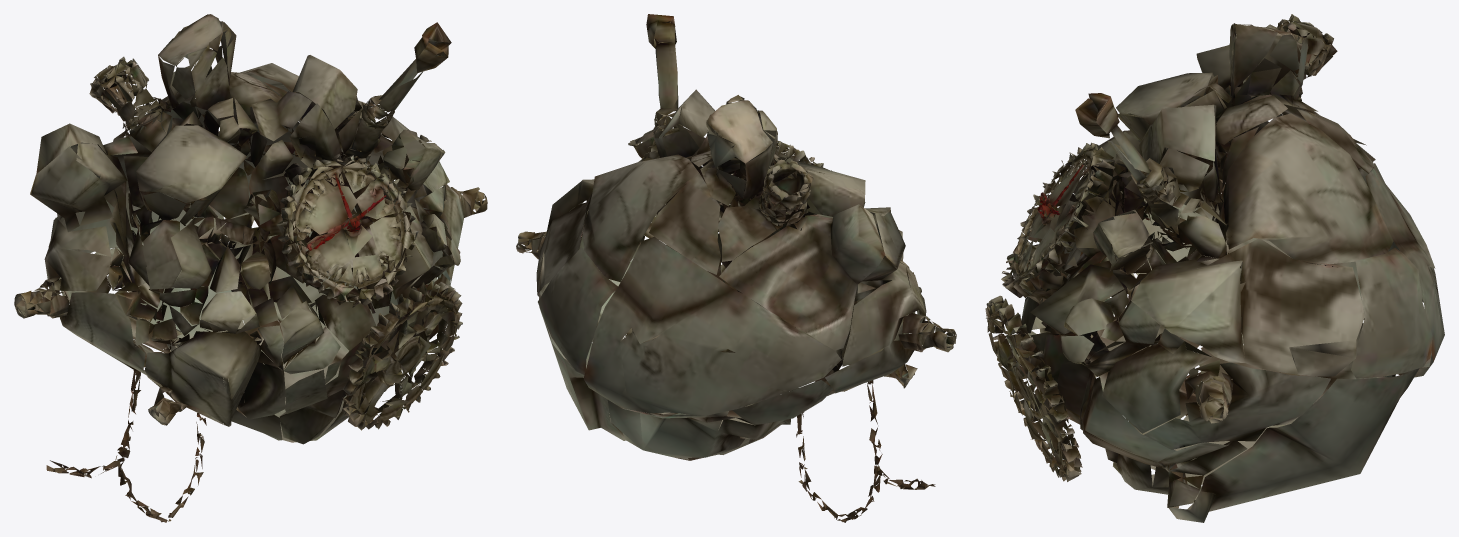
The model's file is debris_cluster_01.glb.
The picture shows the model from 3 angles, left to right: view 1: azimuth 30°, elevation 25°; view 2: azimuth 150°, elevation 25°; view 3: azimuth 270°, elevation 25°; orthographic projection. The views are drawn at different scales.
Parts seen in each view (by area): view 1: debris_cluster_01_mesh_01; view 2: debris_cluster_01_mesh_01; view 3: debris_cluster_01_mesh_01.
Part boxes in pixels (x1=…): debris_cluster_01_mesh_01: x1=14, y1=14, x2=487, y2=522; debris_cluster_01_mesh_01: x1=516, y1=14, x2=956, y2=522; debris_cluster_01_mesh_01: x1=985, y1=14, x2=1444, y2=522.
Size of the model in its own units: 1.9 by 1.83 by 1.45.
Materials: 1 (1 with a texture image).
